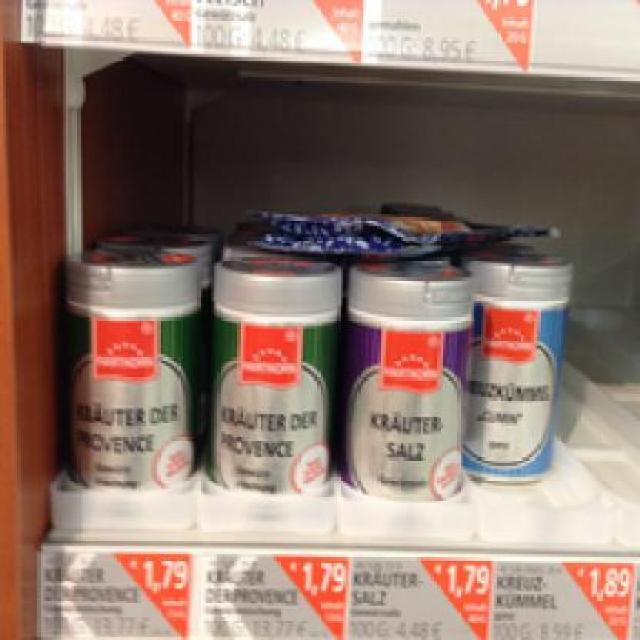Spices: (62, 243, 198, 486), (209, 248, 334, 488), (343, 257, 468, 492), (456, 257, 570, 483)
